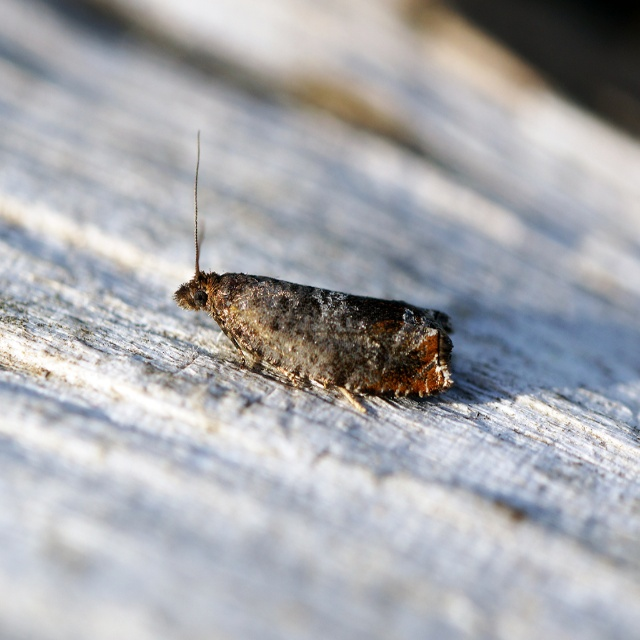Moths and butterflies: (174, 132, 462, 414)
